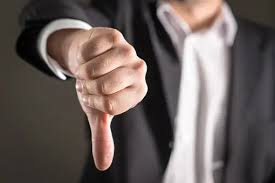ThumbsDown: (66, 26, 148, 172)
